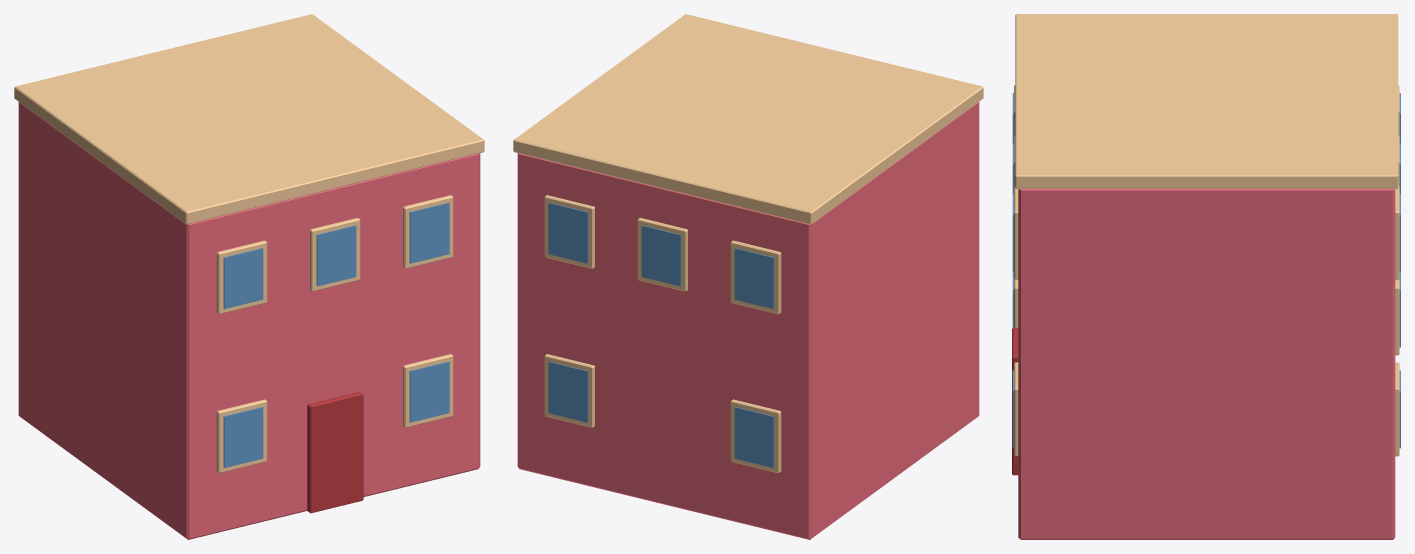
The model's file is house_c.glb.
3 renders of one model, left to right at view 1: azimuth 30°, elevation 25°; view 2: azimuth 150°, elevation 25°; view 3: azimuth 270°, elevation 25°, orthographic. The views are drawn at different scales.
Visible parts, largest first — view 1: wall, house_cap, house_door, wall_glass3, wall_glass1, wall_glass2, wall_glass4, wall_glass0, wall_frame2, wall_frame0, wall_frame1, wall_frame3 (+1 smaller); view 2: wall, house_cap, wall_glass_b3, wall_glass_b1, wall_glass_b2, wall_glass_b4, wall_glass_b0, wall_frame_b2, wall_frame_b0, wall_frame_b1, wall_frame_b3, wall_frame_b4; view 3: wall, house_cap, house_door, wall_frame_b1, wall_frame1.
Boxes of the visible parts, x1,y1,x2,y2 form: wall: (18, 102, 480, 539); house_cap: (14, 14, 484, 224); house_door: (307, 391, 363, 513); wall_glass3: (316, 225, 356, 286); wall_glass1: (409, 361, 449, 422); wall_glass2: (223, 248, 263, 309); wall_glass4: (409, 202, 449, 263); wall_glass0: (223, 407, 263, 467); wall_frame2: (216, 240, 267, 314); wall_frame0: (216, 399, 267, 473); wall_frame1: (403, 354, 453, 427); wall_frame3: (310, 218, 360, 291); wall: (517, 102, 979, 539); house_cap: (513, 14, 983, 224); wall_glass_b3: (641, 225, 681, 286); wall_glass_b1: (548, 361, 588, 422); wall_glass_b2: (734, 248, 774, 309); wall_glass_b4: (548, 202, 588, 263); wall_glass_b0: (734, 407, 774, 467); wall_frame_b2: (730, 240, 781, 314); wall_frame_b0: (730, 399, 781, 473); wall_frame_b1: (544, 354, 594, 427); wall_frame_b3: (637, 218, 687, 291); wall_frame_b4: (544, 195, 594, 268); wall: (1018, 189, 1395, 539); house_cap: (1015, 14, 1398, 188); house_door: (1012, 327, 1018, 475); wall_frame_b1: (1395, 362, 1399, 456); wall_frame1: (1014, 362, 1018, 456).
Size of the model in its own units: 6.1 by 6.45 by 6.19.
